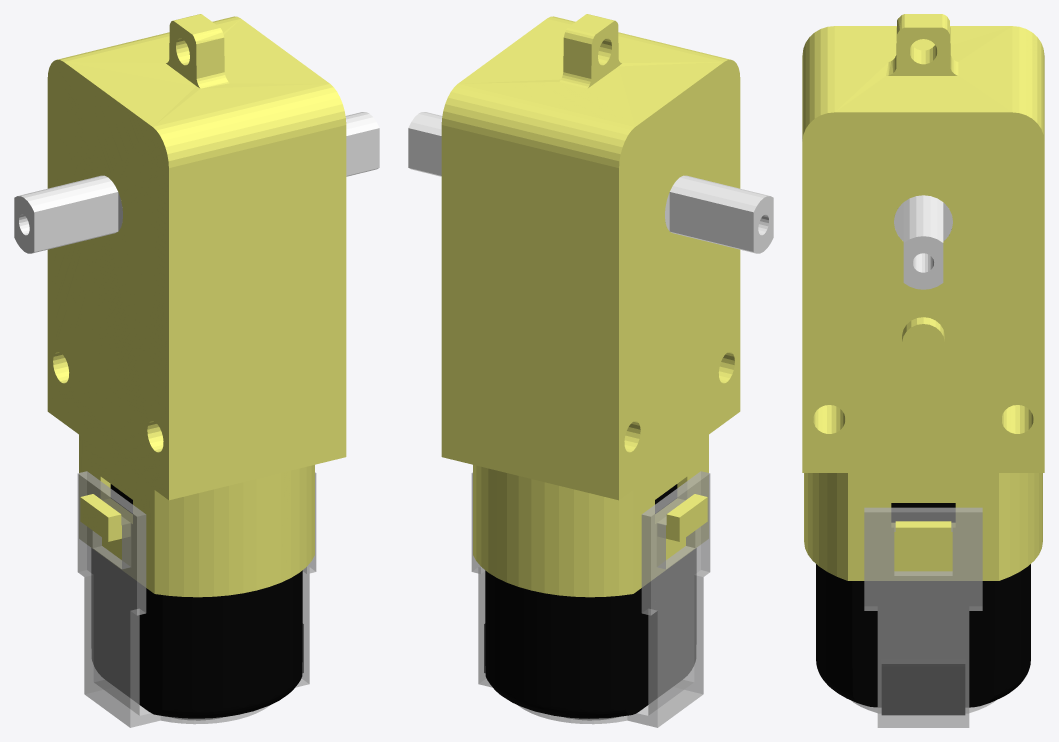
Rendered from gearmotor.glb.
3 views of the same model, side by side, from view 1: azimuth 30°, elevation 25°; view 2: azimuth 150°, elevation 25°; view 3: azimuth 270°, elevation 25° (orthographic).
Parts seen in each view (by area): view 1: part2, part3, part0, part1; view 2: part2, part3, part0, part1; view 3: part2, part3, part0, part1.
Part boxes in pixels (left/top/right/bottom): part2: left=47, top=14, right=346, bottom=597; part3: left=91, top=484, right=303, bottom=720; part0: left=77, top=471, right=316, bottom=727; part1: left=14, top=112, right=379, bottom=253; part2: left=441, top=14, right=740, bottom=597; part3: left=484, top=484, right=696, bottom=720; part0: left=471, top=471, right=710, bottom=727; part1: left=408, top=112, right=773, bottom=253; part2: left=802, top=14, right=1044, bottom=580; part3: left=816, top=503, right=1030, bottom=715; part0: left=851, top=507, right=995, bottom=727; part1: left=894, top=195, right=952, bottom=289.
Bounding box in the file's own units: 0.037 × 0.07 × 0.0225.
